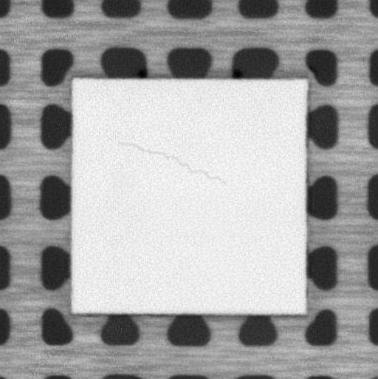DIE_CRACK: (117, 139, 229, 186)
